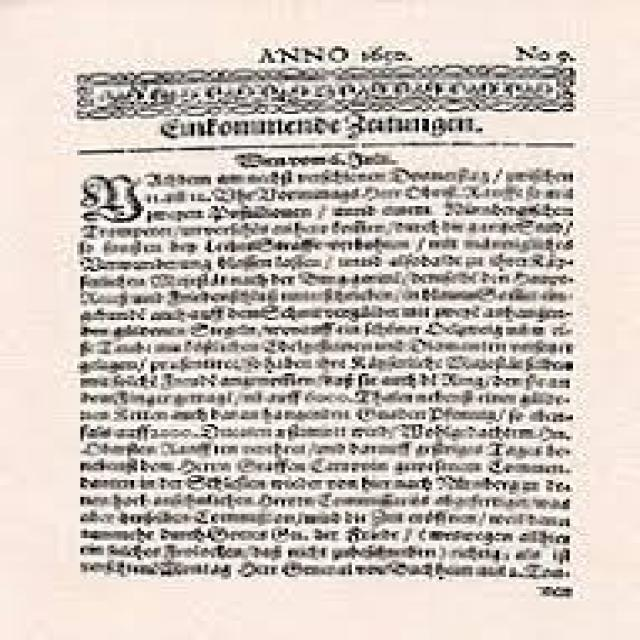paper: (49, 5, 586, 617)
